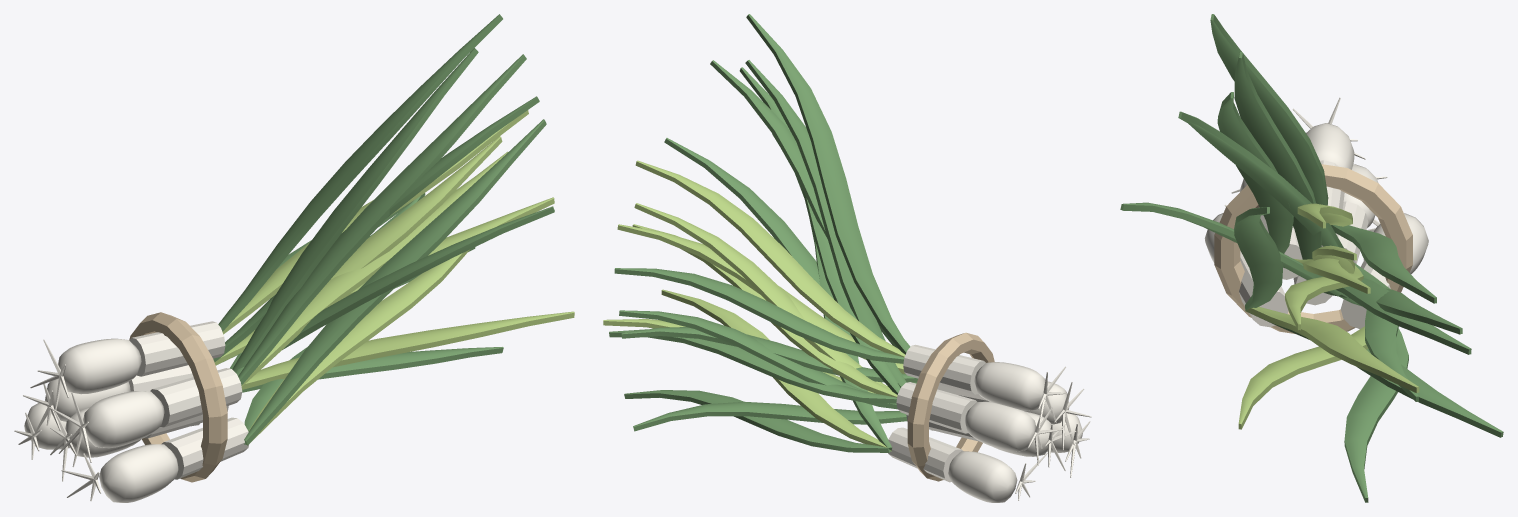
Rendered from fresh-produce-and-groceries-spring-onion-bunch-907a4752__24361.glb.
3 views of the same model, side by side, from view 1: azimuth 30°, elevation 25°; view 2: azimuth 150°, elevation 25°; view 3: azimuth 270°, elevation 25° (orthographic). The views are drawn at different scales.
Visible parts, largest first — view 1: spring-onion-bunch; view 2: spring-onion-bunch; view 3: spring-onion-bunch.
Part boxes in pixels (<box>): spring-onion-bunch: <box>14,14,574,502</box>; spring-onion-bunch: <box>603,14,1091,502</box>; spring-onion-bunch: <box>1120,14,1503,502</box>.
Bounding box in the file's own units: 0.2503 × 0.2066 × 0.1518.
